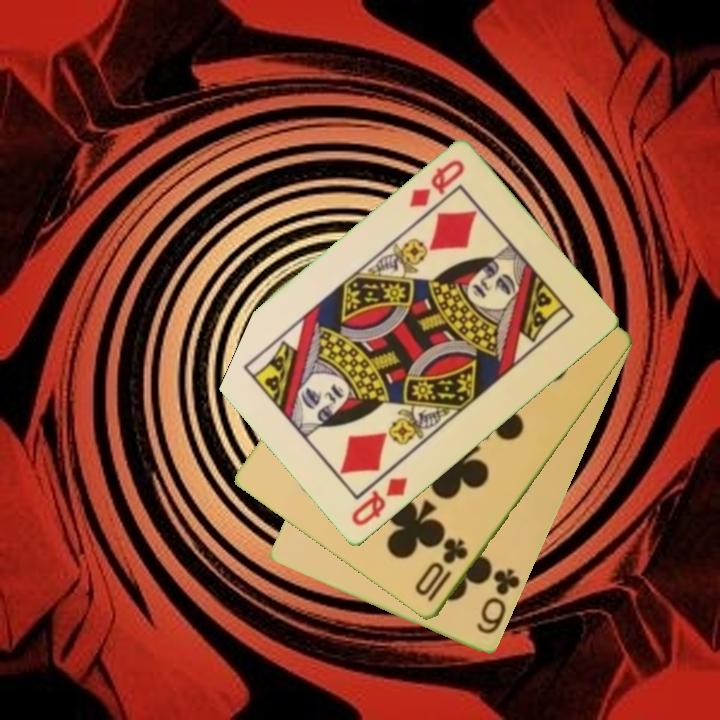10c: (411, 534, 472, 606)
6c: (473, 565, 523, 638)
Qd: (347, 474, 411, 530), (405, 156, 468, 211)
